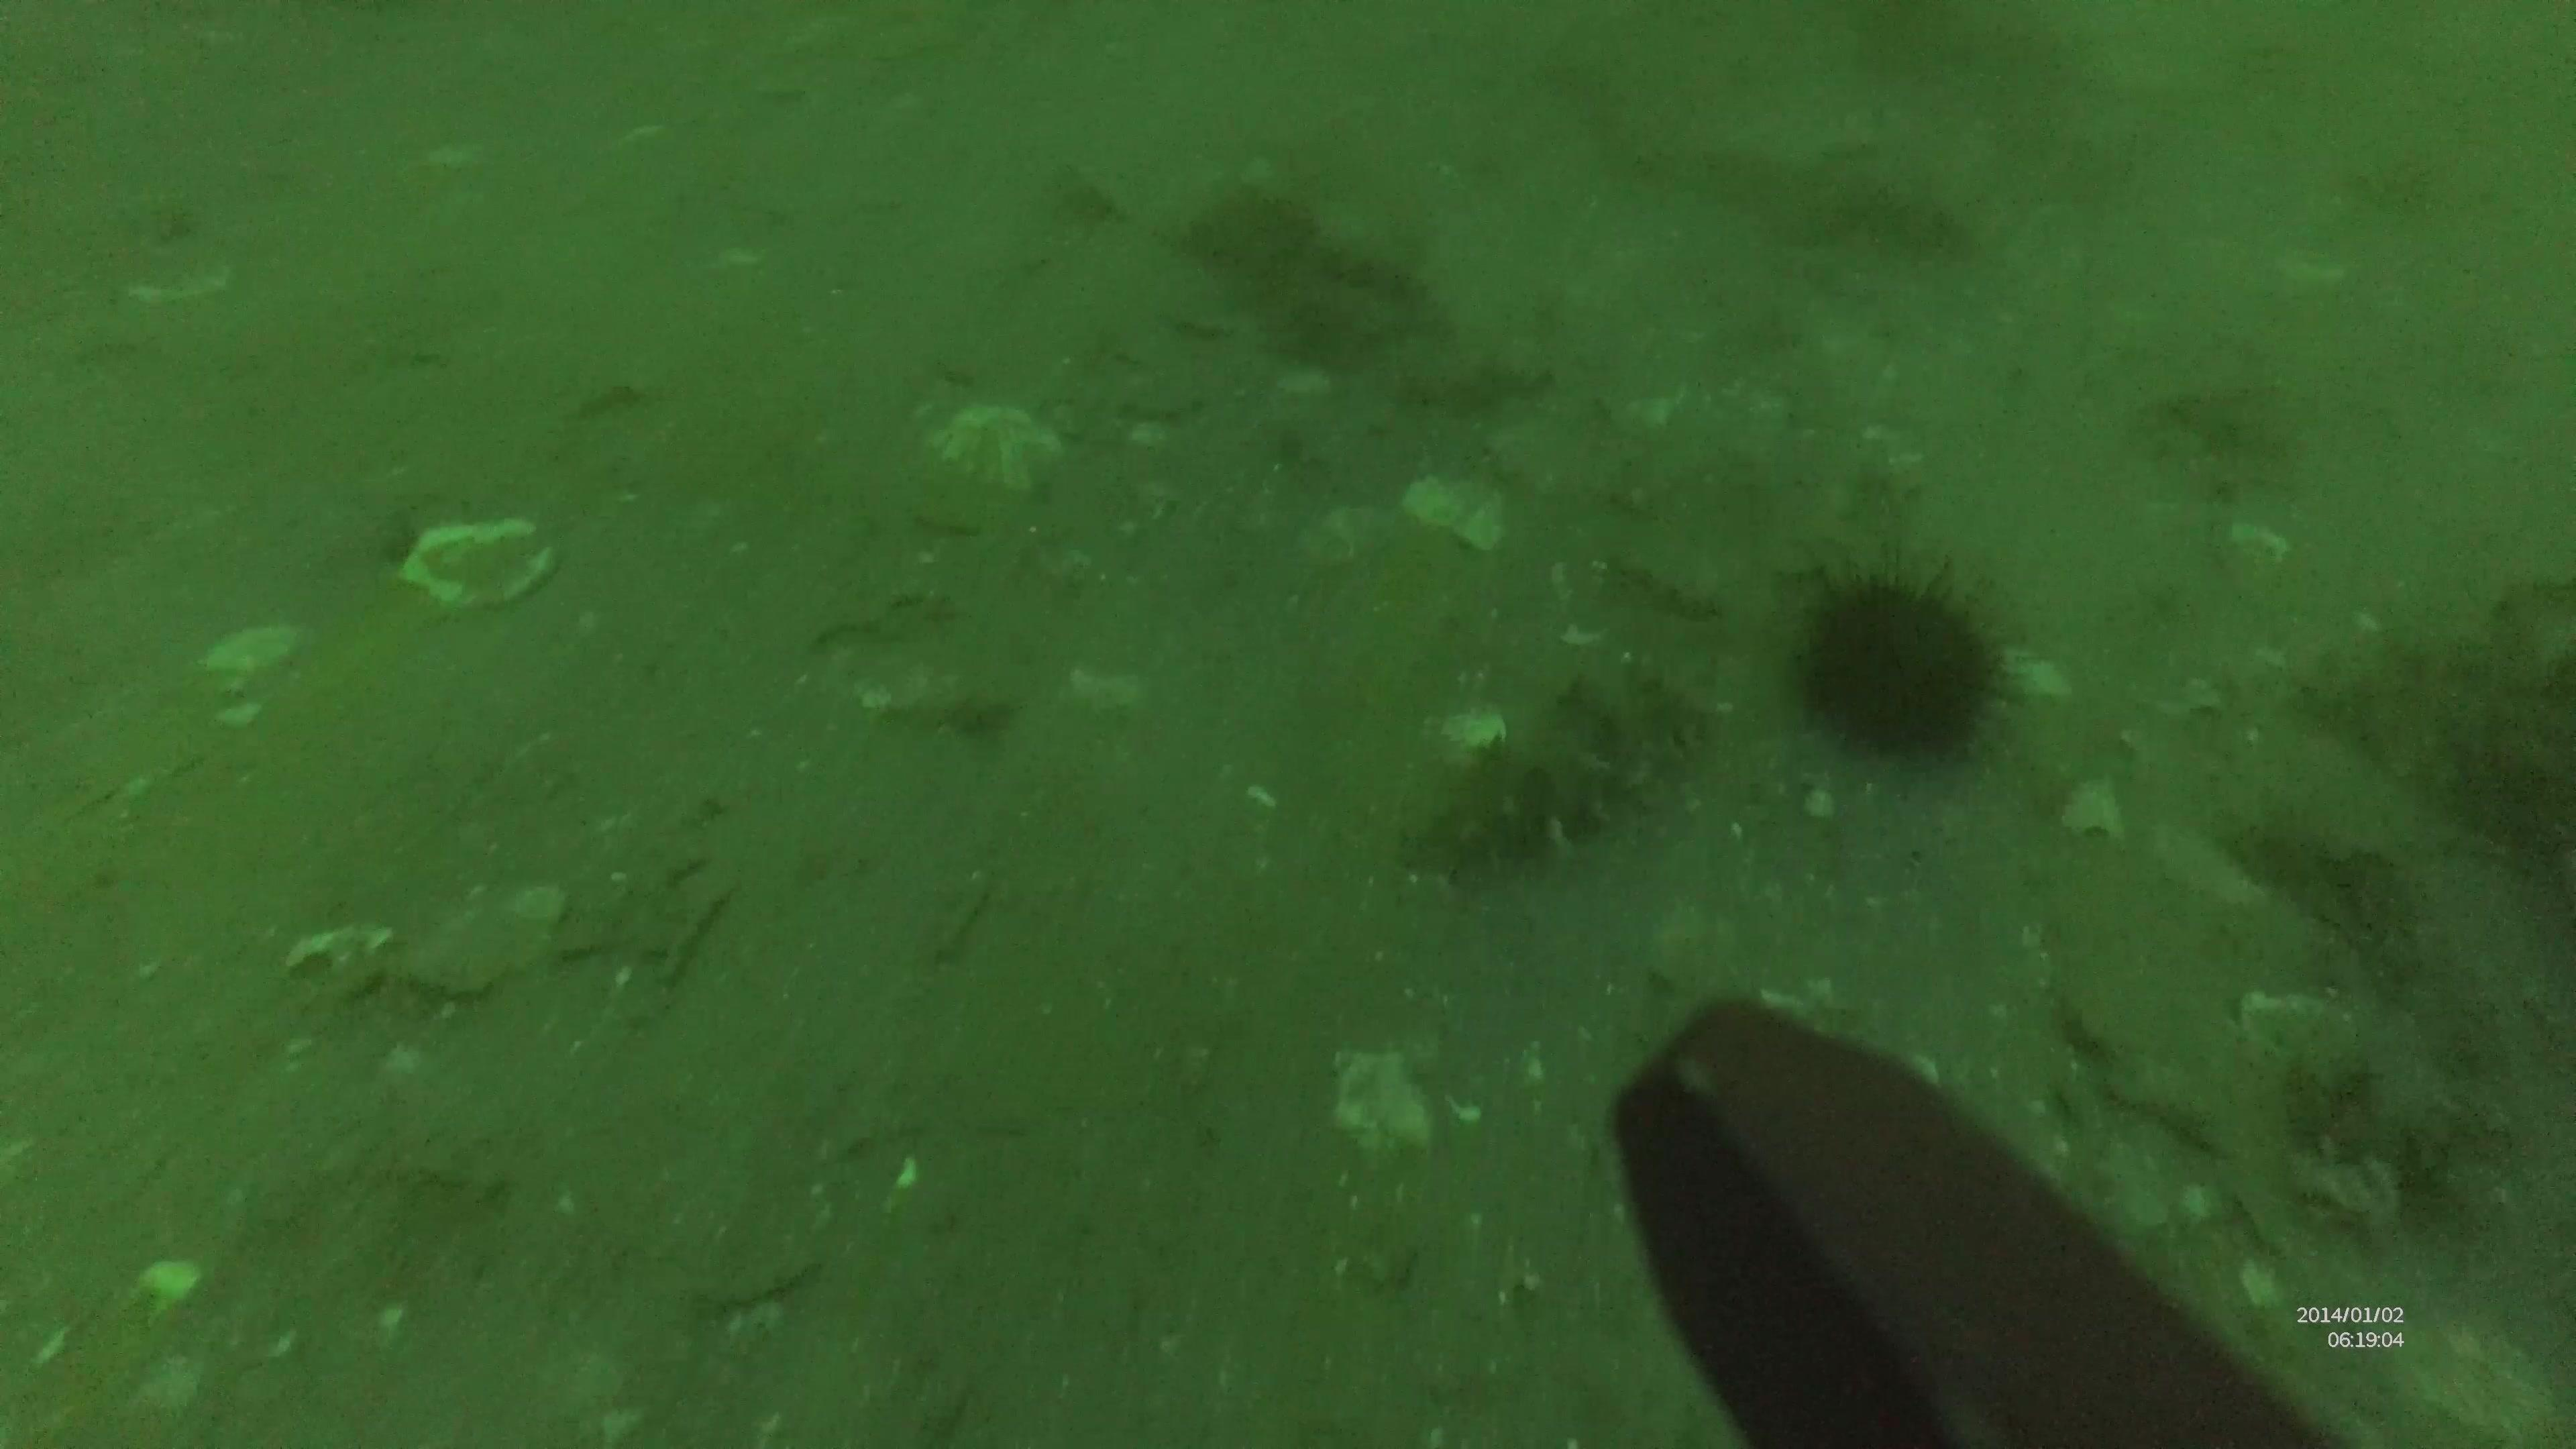echinus: (1783, 568, 2020, 768)
holothurian: (1403, 633, 1736, 904)
scallop: (927, 396, 1074, 502)
